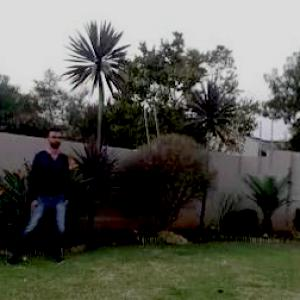follow: (30, 123, 71, 264)
